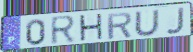0: (25, 18, 47, 47)
H: (78, 12, 105, 44)
J: (165, 6, 186, 36)
R: (50, 14, 78, 47), (105, 11, 134, 41)
U: (134, 8, 161, 37)
